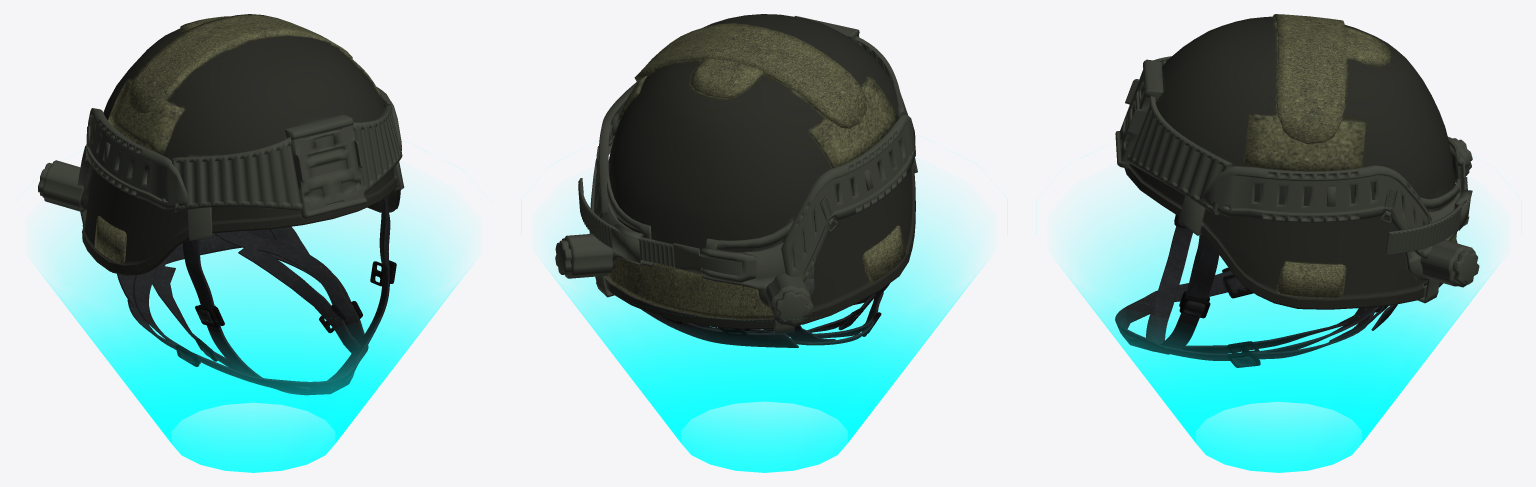
The model's file is SuperSoldierHelmet1.glb.
3 renders of one model, left to right at view 1: azimuth 30°, elevation 25°; view 2: azimuth 150°, elevation 25°; view 3: azimuth 270°, elevation 25°, orthographic.
Parts seen in each view (by area): view 1: Object002, Cylinder001; view 2: Object002, Cylinder001; view 3: Object002, Cylinder001.
Boxes of the visible parts, left/top/right/bottom form: Object002: left=38, top=14, right=404, bottom=395; Cylinder001: left=40, top=208, right=466, bottom=472; Object002: left=555, top=14, right=917, bottom=347; Cylinder001: left=546, top=208, right=982, bottom=472; Object002: left=1115, top=14, right=1479, bottom=367; Cylinder001: left=1063, top=199, right=1494, bottom=472.
Size of the model in its own units: 0.1783 by 0.1629 by 0.1756.
2 materials, 2 textured.
